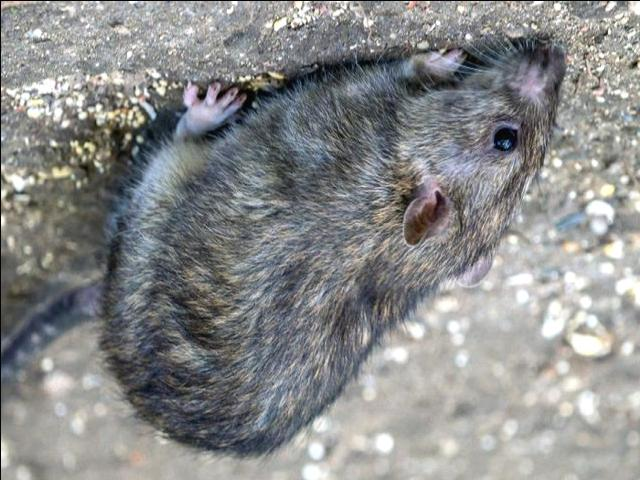Tikus: (92, 40, 568, 463)
